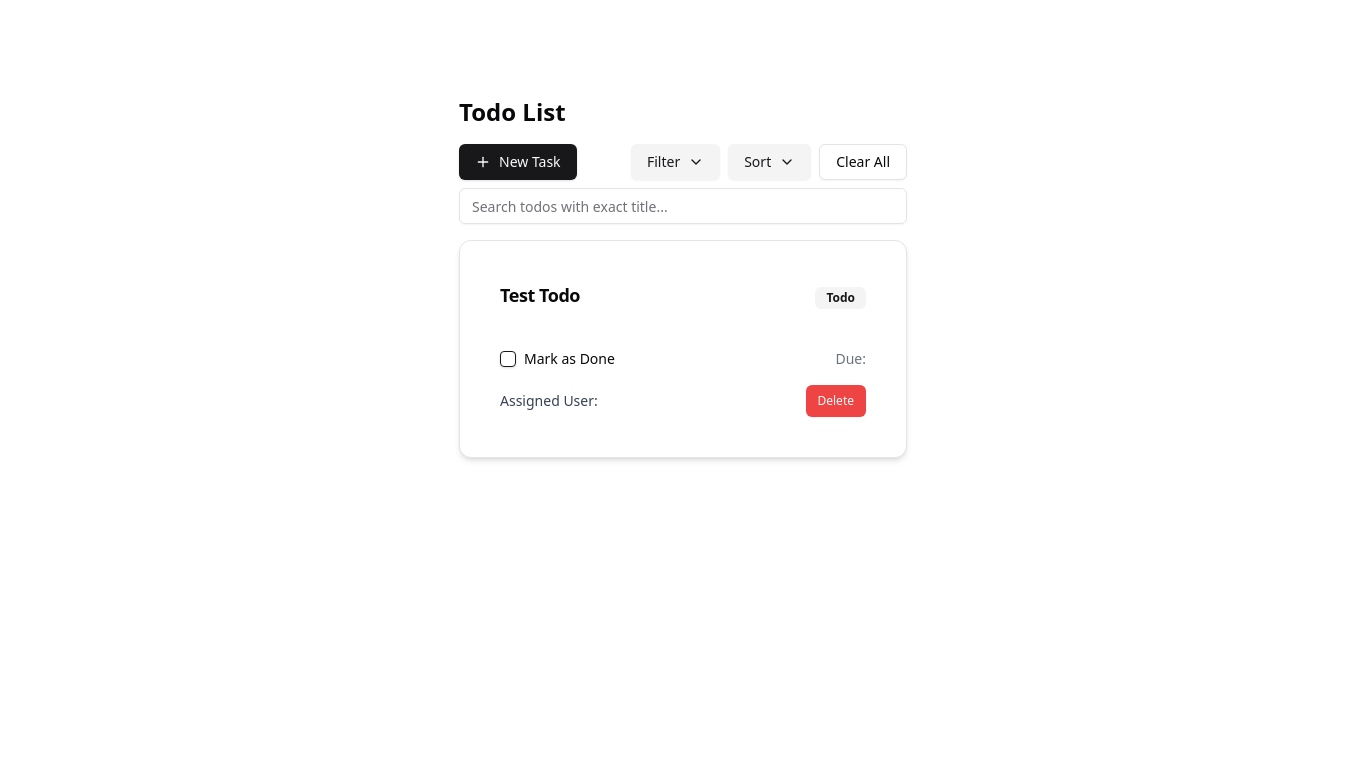
Test: TodoList Component › opens create todo dialog when 'New Task' button is clicked
This screenshot has width=1366, height=768.
Click the button "New Task" at (518, 162), box [459,144,577,180]
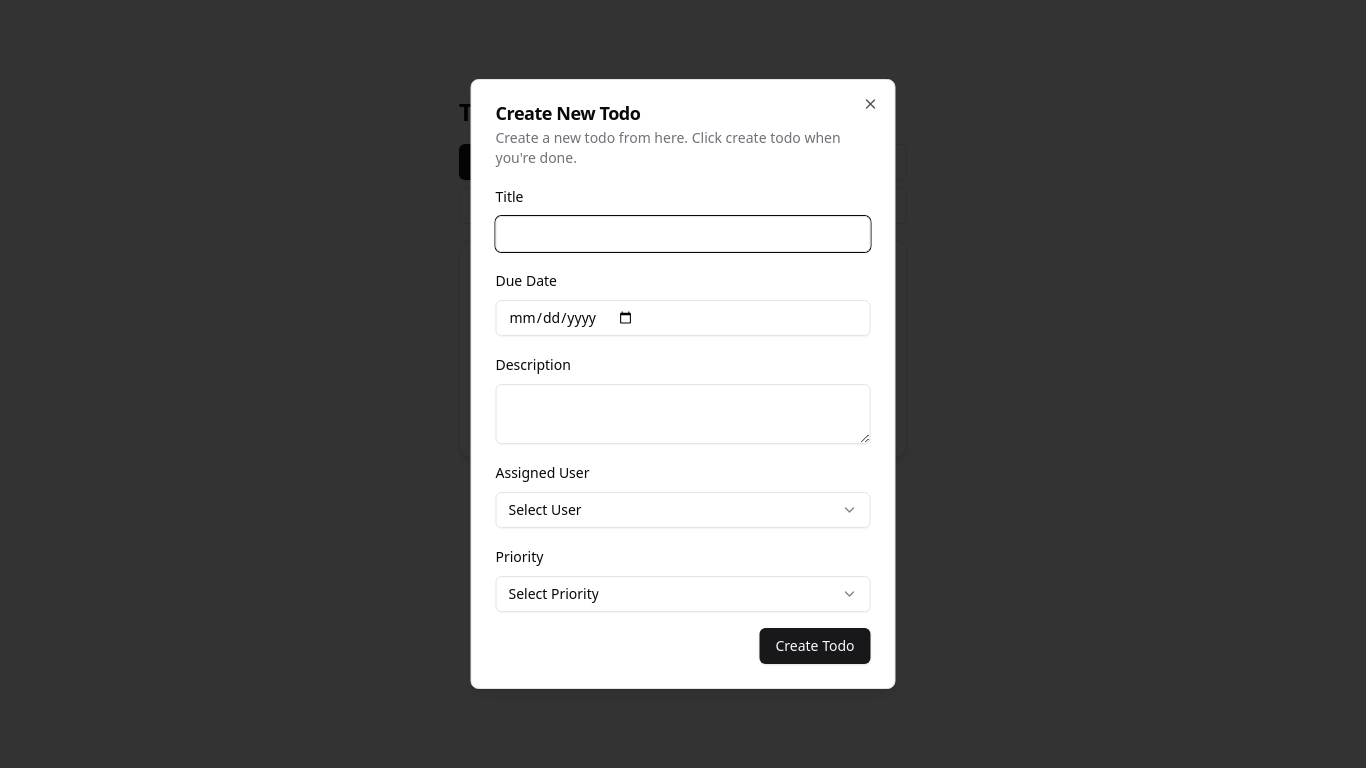
Expected: the dialog is shown, [470,79,896,689]
